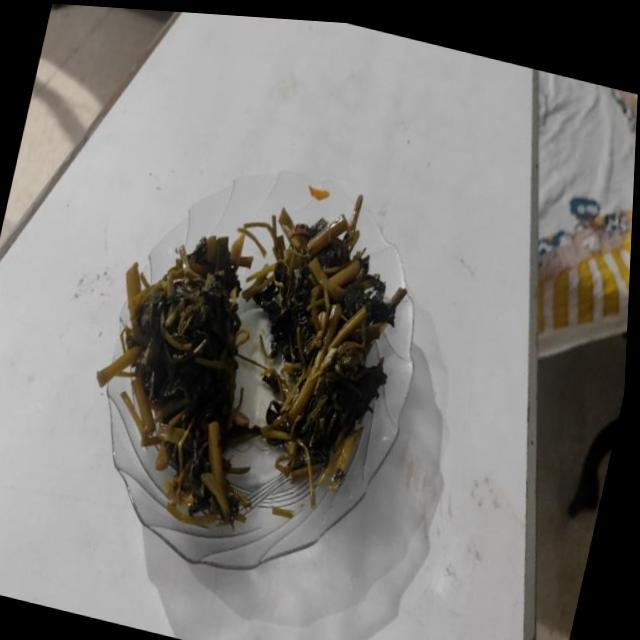tumis_kangkung: (97, 236, 252, 526), (257, 208, 406, 474)
